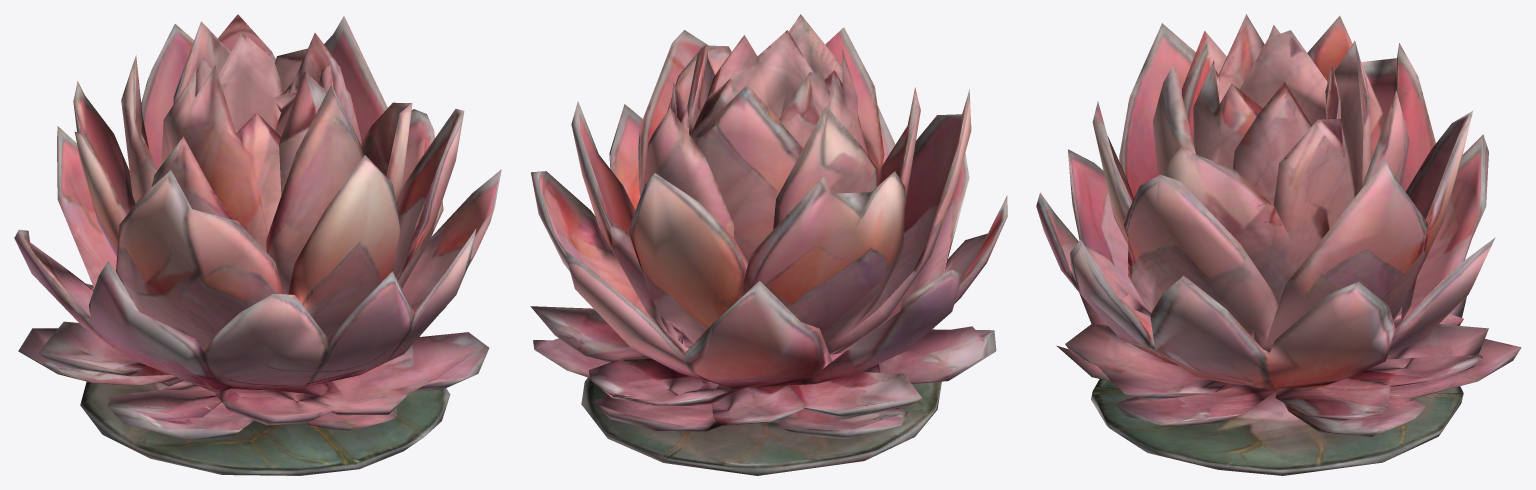
The model's file is testLotusPink.glb.
The picture shows the model from 3 angles, left to right: view 1: azimuth 30°, elevation 25°; view 2: azimuth 150°, elevation 25°; view 3: azimuth 270°, elevation 25°; orthographic projection. The views are drawn at different scales.
Visible parts, largest first — view 1: Mesh_0; view 2: Mesh_0; view 3: Mesh_0.
Part boxes in pixels (left/top/right/bottom): Mesh_0: left=14, top=14, right=501, bottom=475; Mesh_0: left=530, top=14, right=1007, bottom=475; Mesh_0: left=1036, top=14, right=1521, bottom=475.
Bounding box in the file's own units: 1.22 × 1 × 1.24.
Materials: 1 (1 with a texture image).
